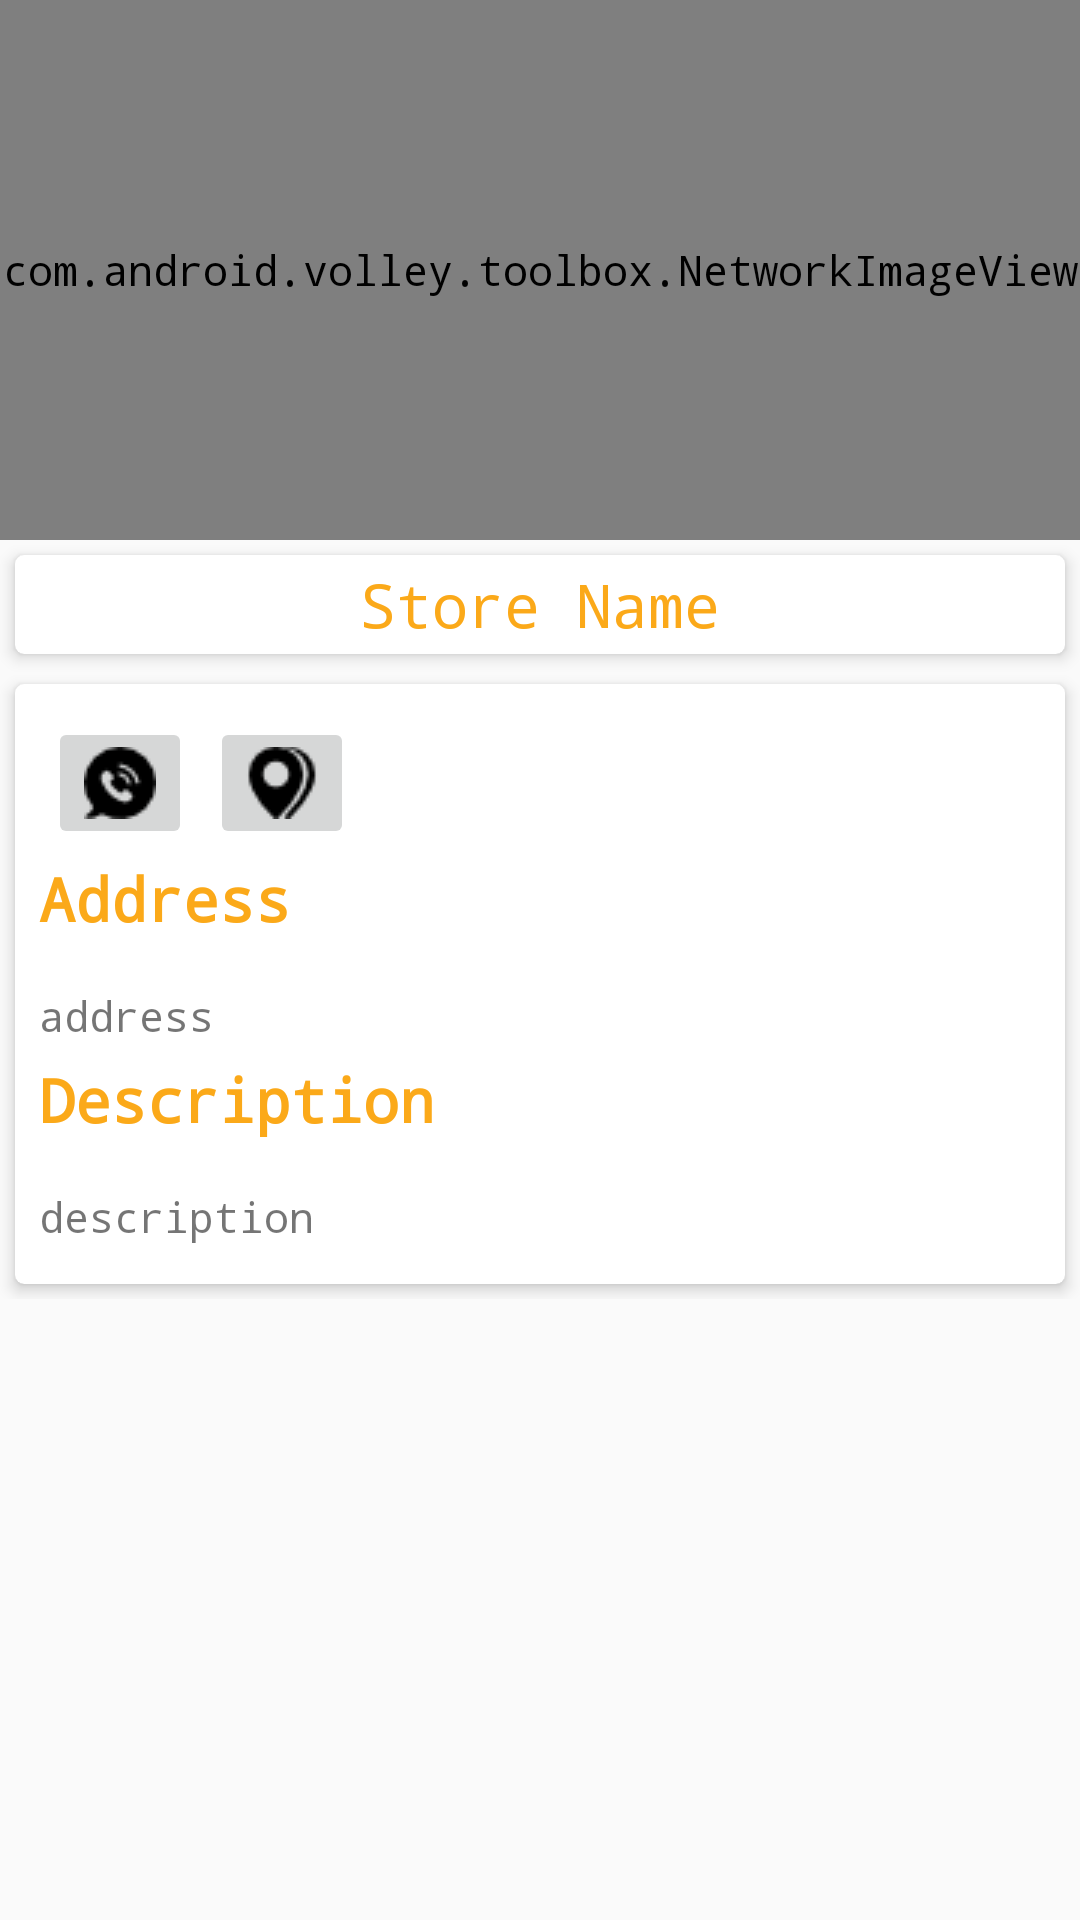

Icon bounding boxes for this 1080w x 1920h phone screenshot, format (x1, y1, x2, y2):
place: (222, 735, 342, 831)
